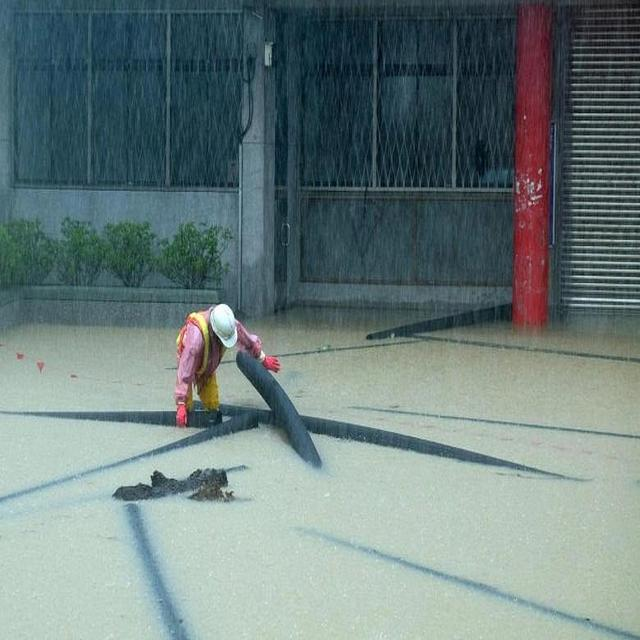Person-RiskLevel2: (158, 286, 284, 439)
